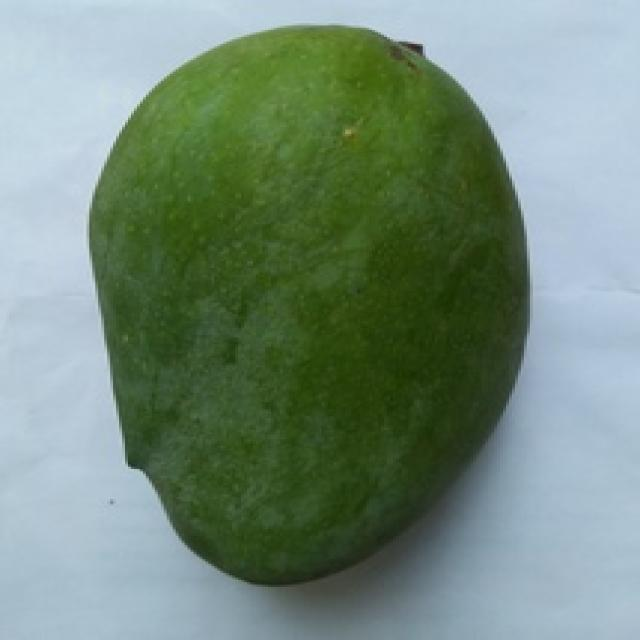Mango: (89, 28, 524, 582)
